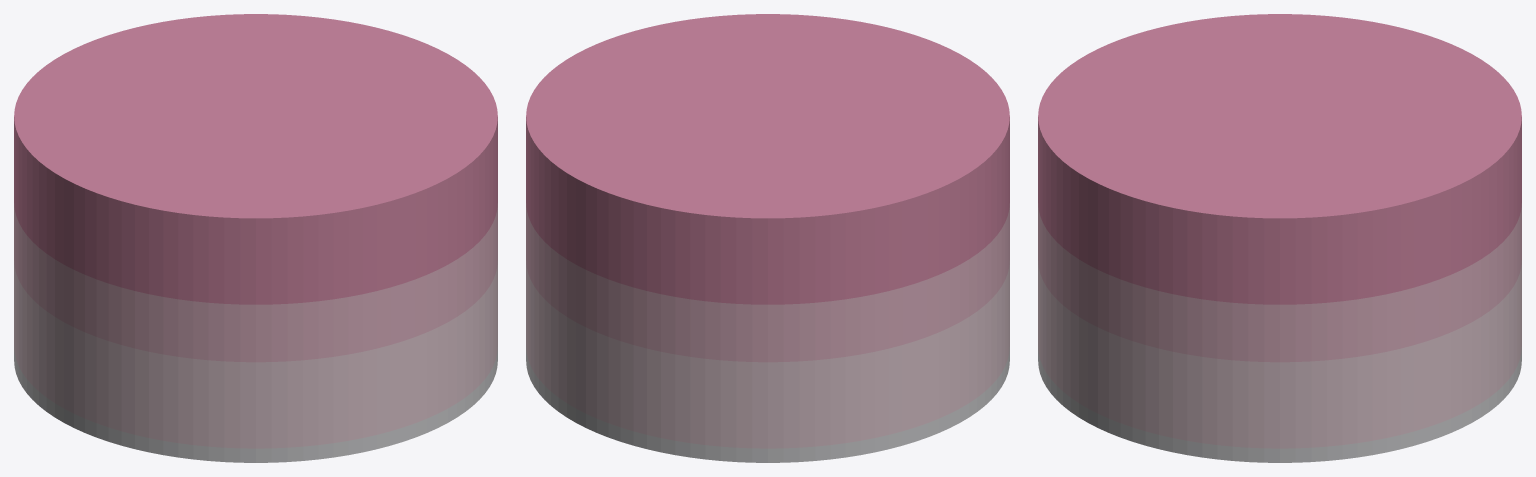
File: cake_6in_layers2.glb
The picture shows the model from 3 angles, left to right: view 1: azimuth 30°, elevation 25°; view 2: azimuth 150°, elevation 25°; view 3: azimuth 270°, elevation 25°; orthographic projection.
Visible parts, largest first — view 1: geometry_2, geometry_0, geometry_1, geometry_3; view 2: geometry_2, geometry_0, geometry_1, geometry_3; view 3: geometry_2, geometry_0, geometry_1, geometry_3.
Boxes of the visible parts, box(x1,y1,x2,y2) form: geometry_2: box(14, 14, 497, 304); geometry_0: box(14, 261, 497, 448); geometry_1: box(14, 203, 497, 362); geometry_3: box(14, 347, 497, 462); geometry_2: box(526, 14, 1009, 304); geometry_0: box(526, 261, 1009, 448); geometry_1: box(526, 203, 1009, 362); geometry_3: box(526, 347, 1009, 462); geometry_2: box(1038, 14, 1521, 304); geometry_0: box(1038, 261, 1521, 448); geometry_1: box(1038, 203, 1521, 362); geometry_3: box(1038, 347, 1521, 462).
Bounding box in the file's own units: 0.1524 × 0.085 × 0.1524.
